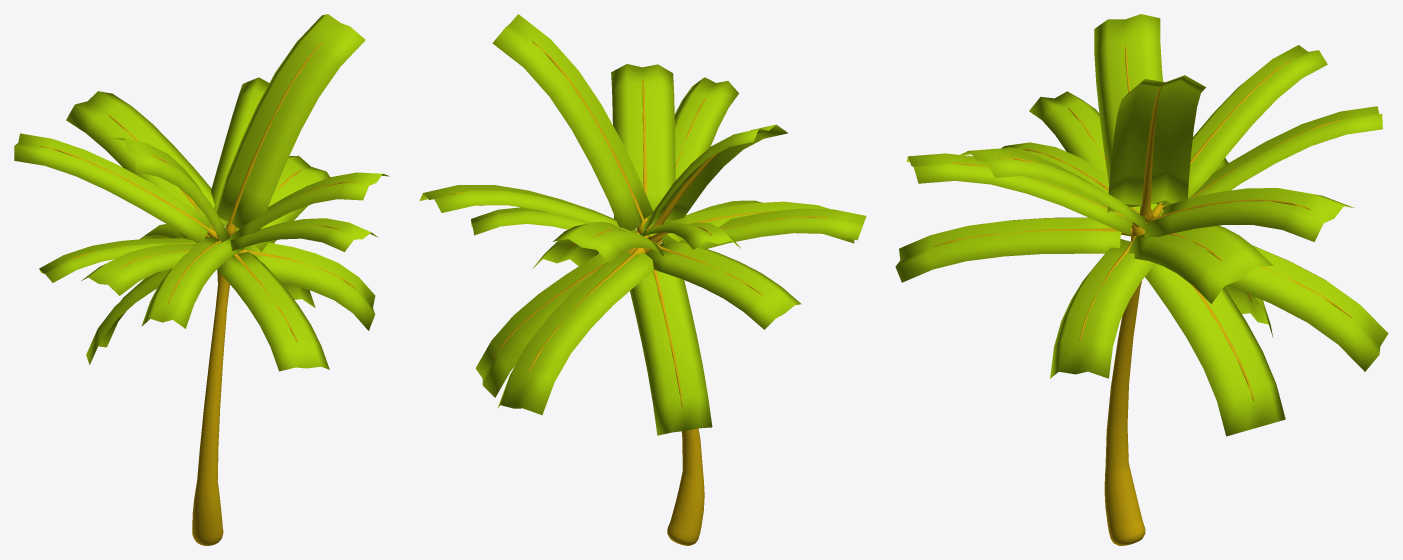
File: palm_1.fbx
3 views of the same model, side by side, from view 1: azimuth 30°, elevation 25°; view 2: azimuth 150°, elevation 25°; view 3: azimuth 270°, elevation 25° (orthographic). The views are drawn at different scales.
Parts seen in each view (by area): view 1: Palm_1; view 2: Palm_1; view 3: Palm_1.
Part boxes in pixels (x1,y1,x2,y2): Palm_1: (14,14,389,545); Palm_1: (419,14,866,545); Palm_1: (895,14,1388,545).
Bounding box in the file's own units: 870 × 1243 × 1007.
